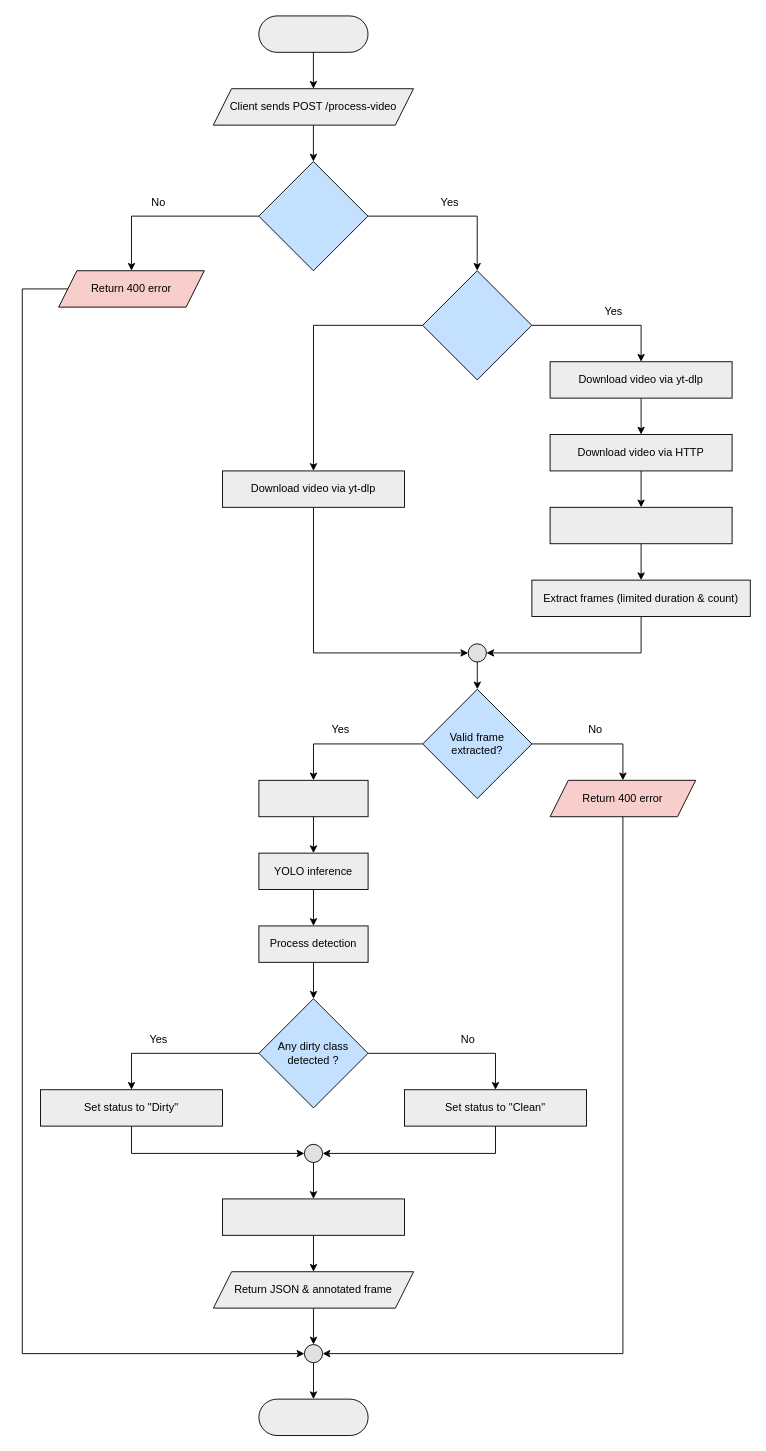
The diagram is 766 pixels wide and 1451 high, and some of its shapes have lost their labels. Here are the shapes that lost their labels. From the top down, the box of each, then its label:
(258, 15, 368, 52): Start
(258, 161, 368, 271): Video URL provided?
(422, 270, 532, 380): Is Youtube URL?
(549, 506, 732, 544): Convert video to MP4 (FFmpeg)
(258, 779, 368, 817): Acquire model lock
(222, 1198, 404, 1235): encode frame & build JSON
(258, 1398, 368, 1436): End
